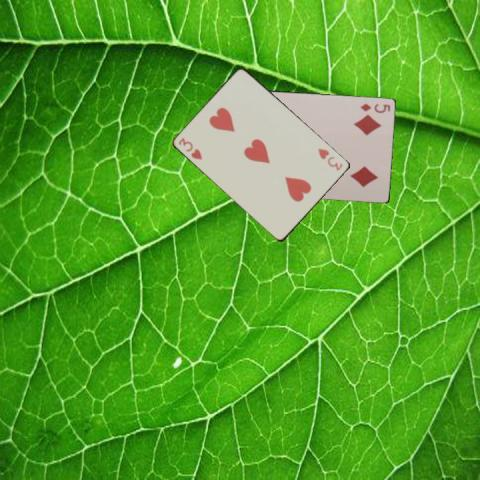3h: (315, 145, 344, 172), (175, 135, 204, 161)
5d: (357, 101, 392, 114)
